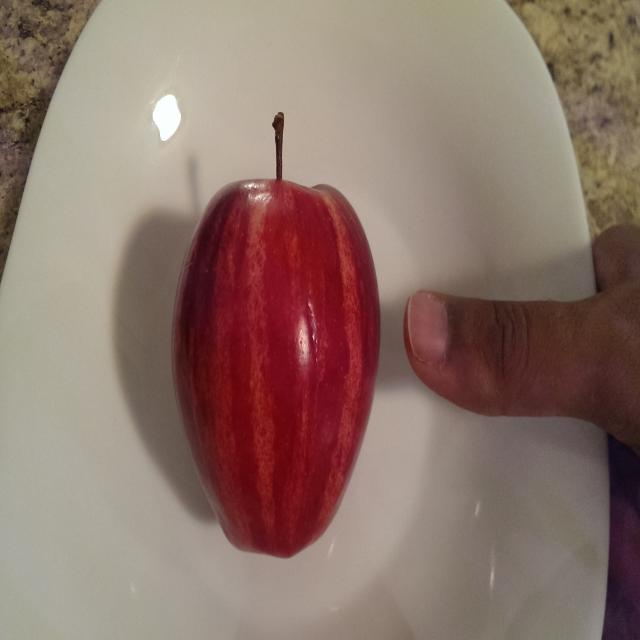apple: (166, 105, 385, 566)
